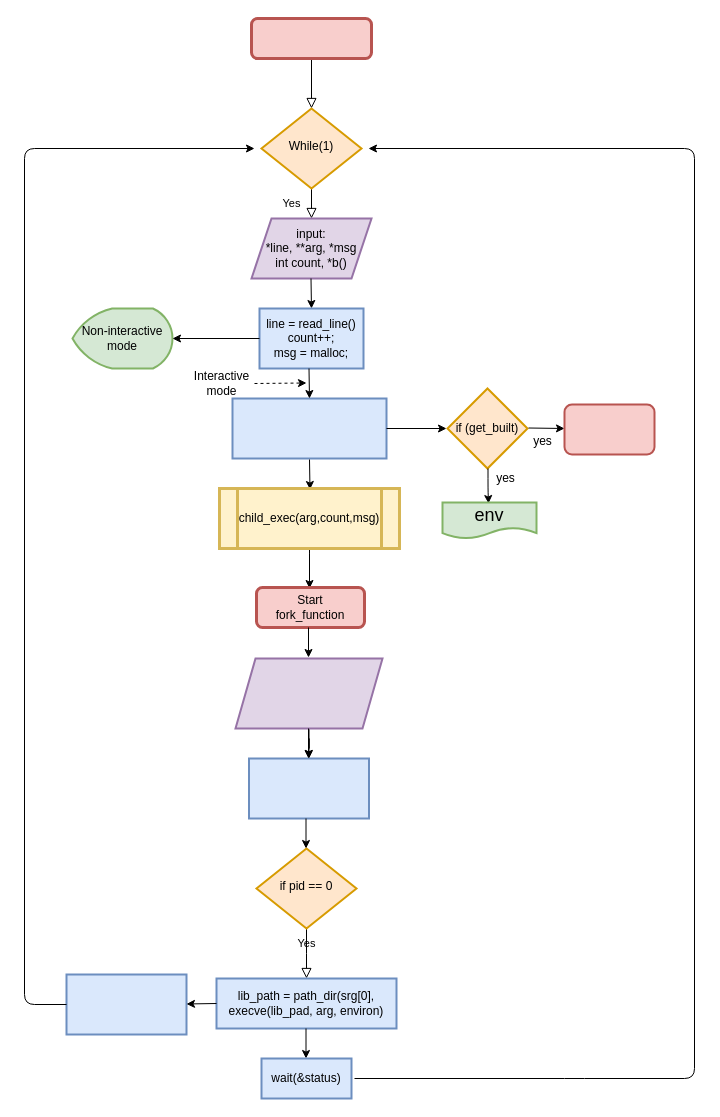
Some shapes in this 720 by 1117 pixel diagram are drawn without their labels. The box of each missing label's shape, as (x1, y1, x2, y2) in pixels:
input: pid_t pid, status, numberror, lib_path: (234, 657, 383, 729)
numberror = errno _error(numberror, msg,count): (65, 973, 187, 1035)
pid = fork numberror = 0: (248, 757, 370, 819)
prompt, arg = token_command(line): (231, 397, 387, 459)
return(1) Exit: (563, 403, 655, 455)
Start Shell (./hsh): (250, 16, 372, 60)
